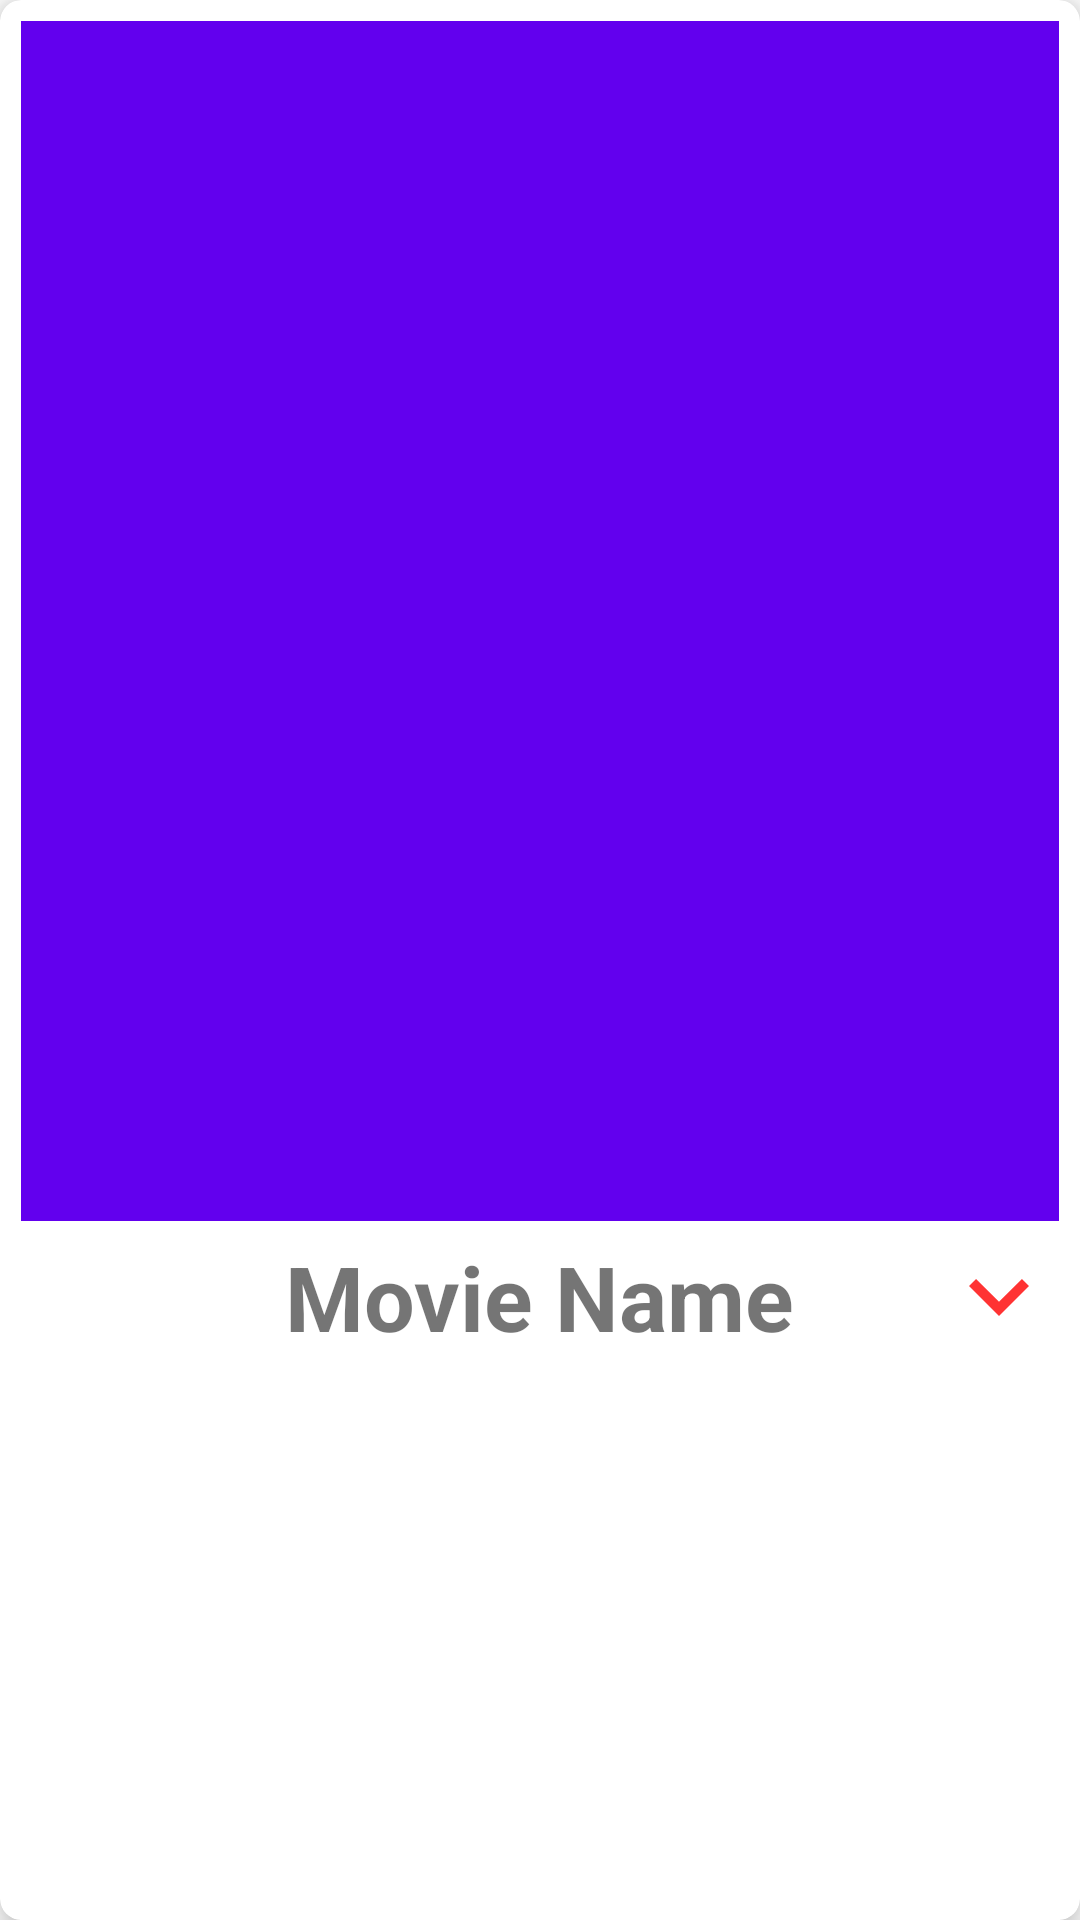

Icon click points for this 1080*1920 phone screenshot, format (x=x, y=y):
down arrow: (x=999, y=1297)
